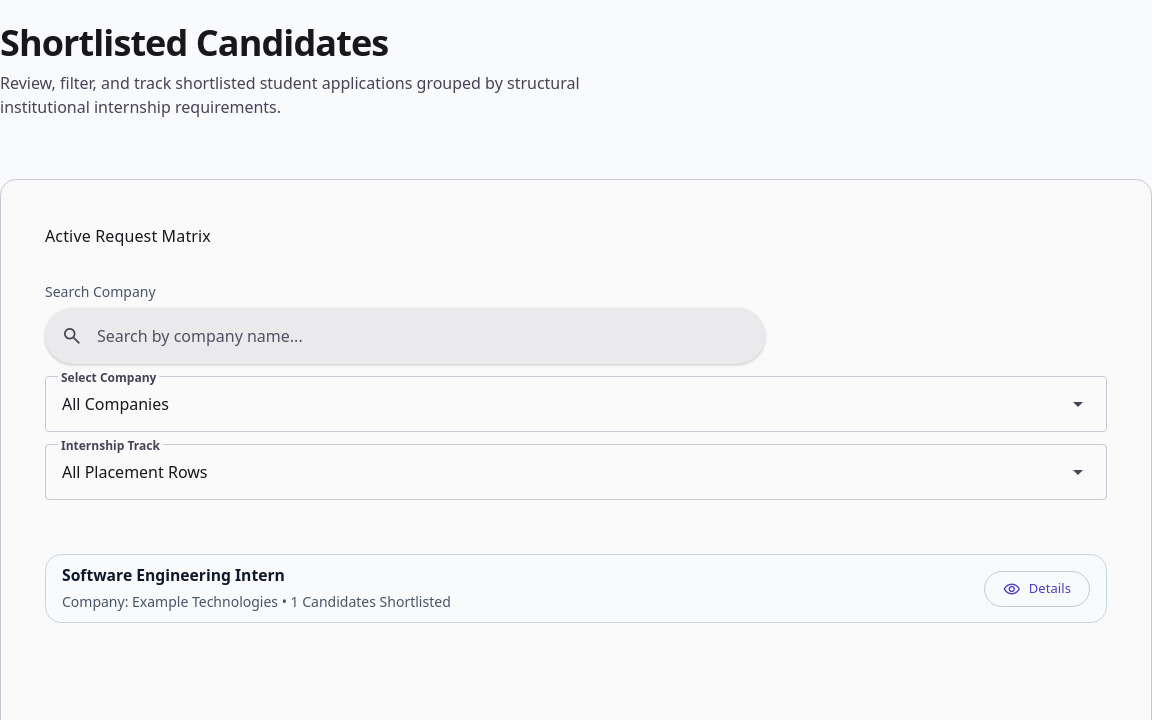
ShortlistsPage wireframe › opens the wireframe detail modal with candidate search, GPA sorting, and downloads
Click the button "Details" at (1037, 589), box [984,571,1090,607]
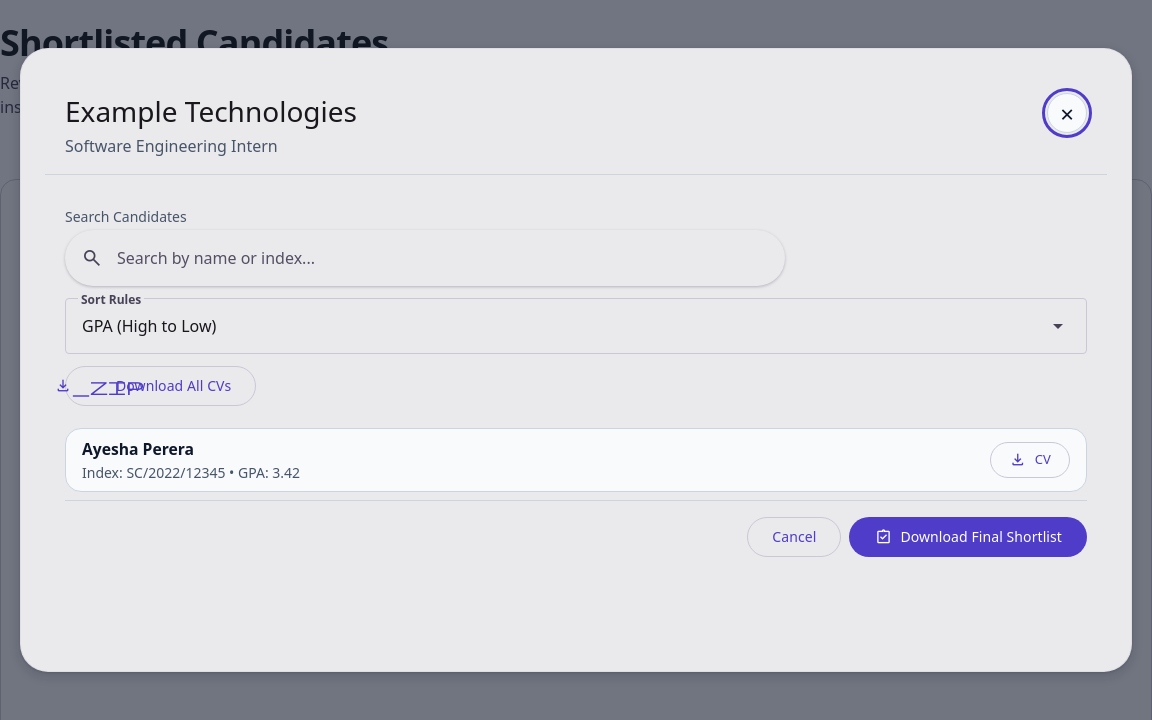
Expected: the text "Software Engineering Intern" is shown, [65,135,278,157]
Expected: the search field labelled "Search Candidates" is shown, [115,230,757,286]
Expected: the label labelled "Sort Rules" holds "officialGpa,desc", [78,290,144,307]
